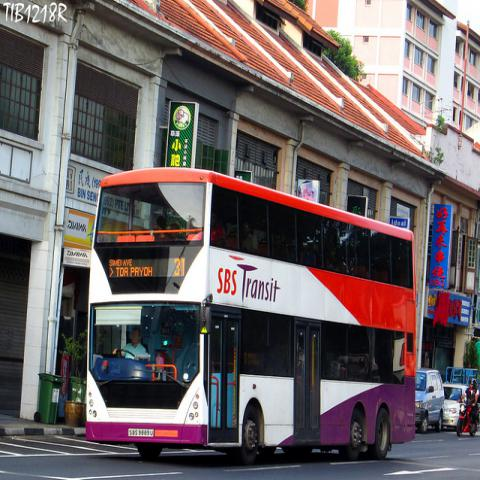bus: (86, 168, 415, 465)
car: (415, 367, 446, 431), (442, 384, 467, 427)
motorcycle: (456, 398, 479, 438)
truck: (415, 370, 444, 434)
